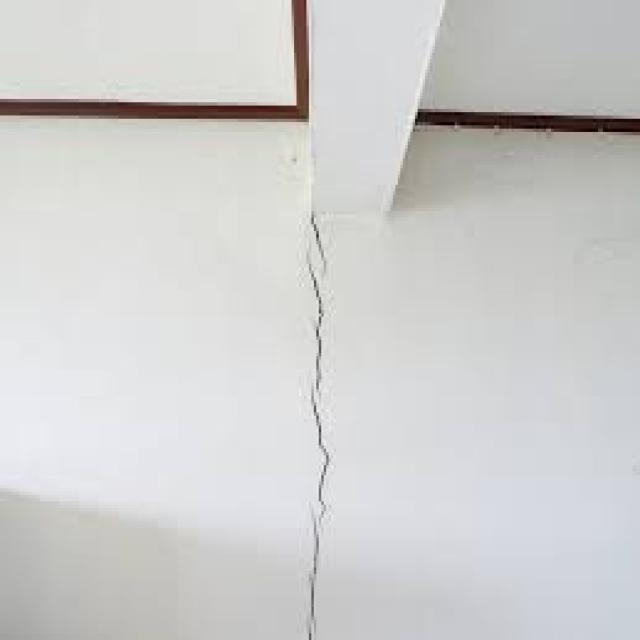Crack: (299, 208, 329, 637)
